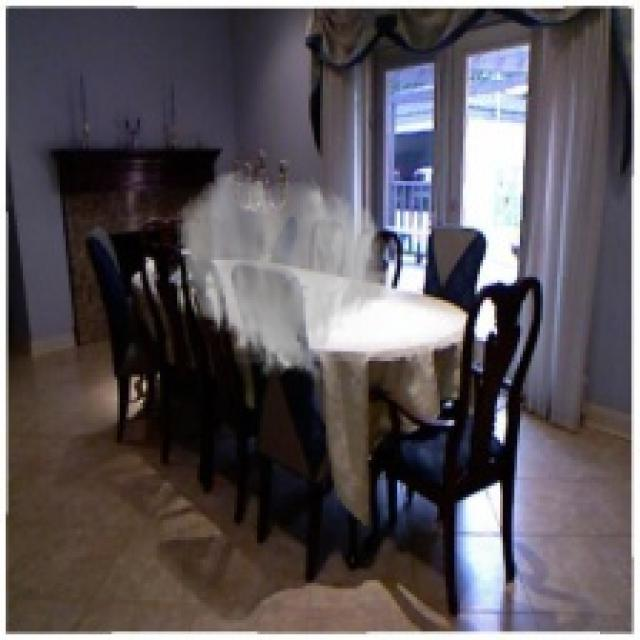smoke: (174, 166, 394, 386)
